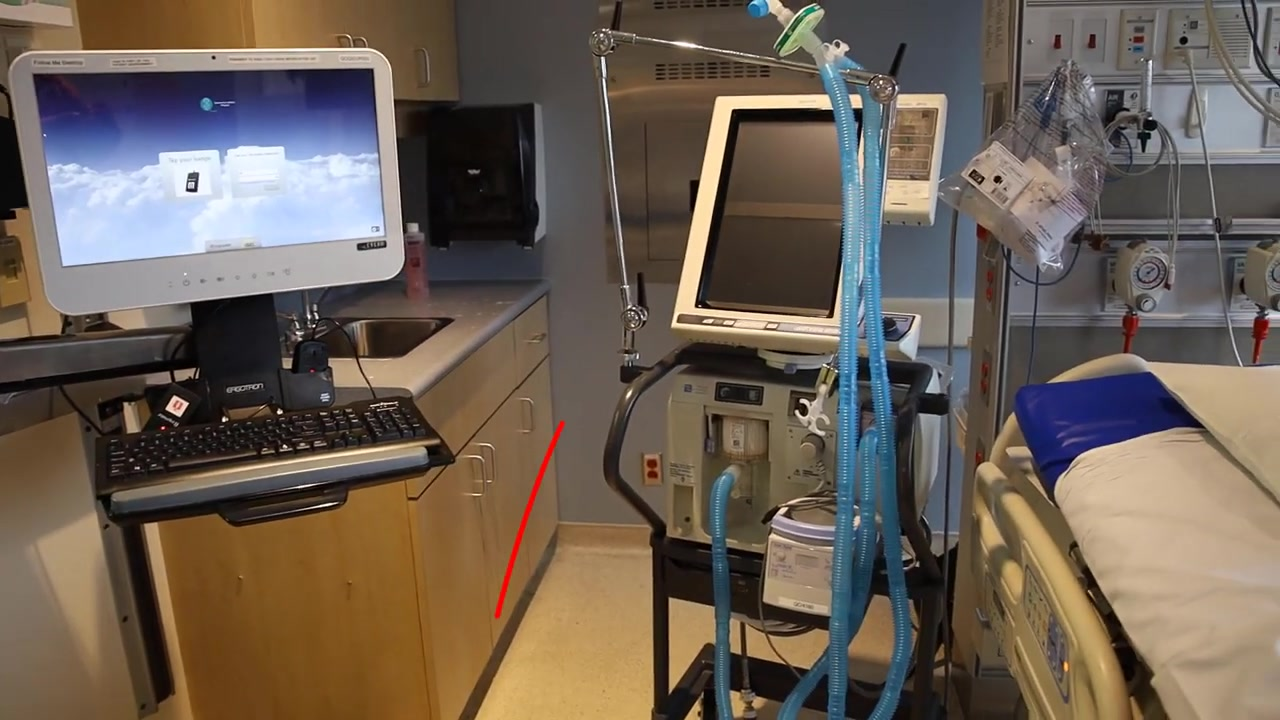bedrail: (964, 461, 1144, 720)
breathing_tube: (710, 2, 915, 720)
computer: (8, 47, 407, 317)
counter: (145, 281, 562, 718)
countertop: (143, 281, 550, 398)
dispenser: (420, 104, 543, 246)
faucet: (275, 286, 343, 338)
handle: (459, 454, 486, 496), (474, 441, 498, 484), (514, 397, 537, 436), (415, 48, 431, 88), (524, 331, 547, 344), (335, 33, 354, 48), (352, 36, 369, 48)
hospital_bed: (961, 352, 1280, 720)
keyboard: (93, 395, 442, 501)
sink: (278, 312, 458, 361)
ventilator: (663, 89, 948, 626)
